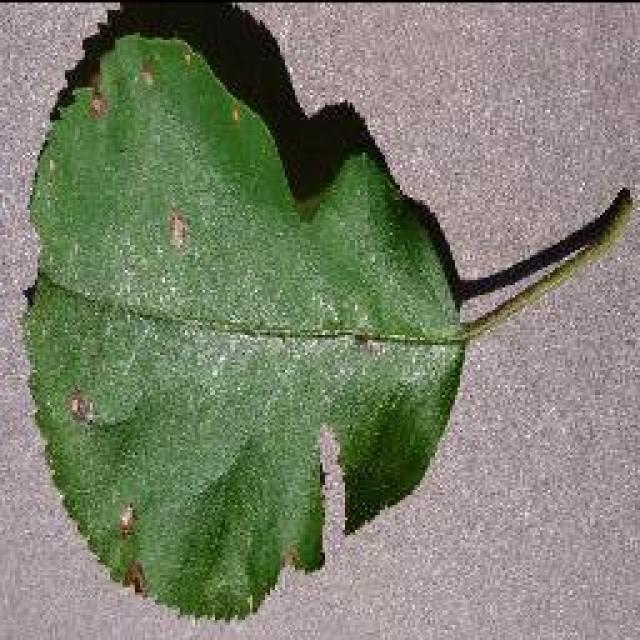apple black rot: (17, 0, 634, 622)
